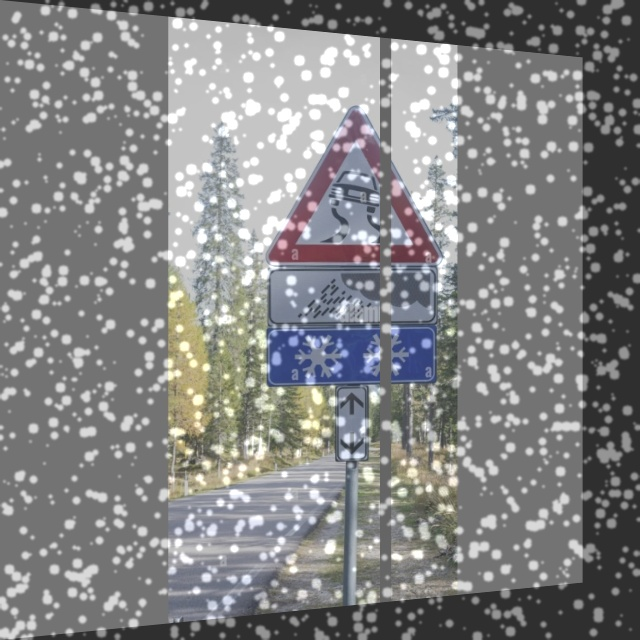Slippery_Road: (274, 102, 434, 261)
